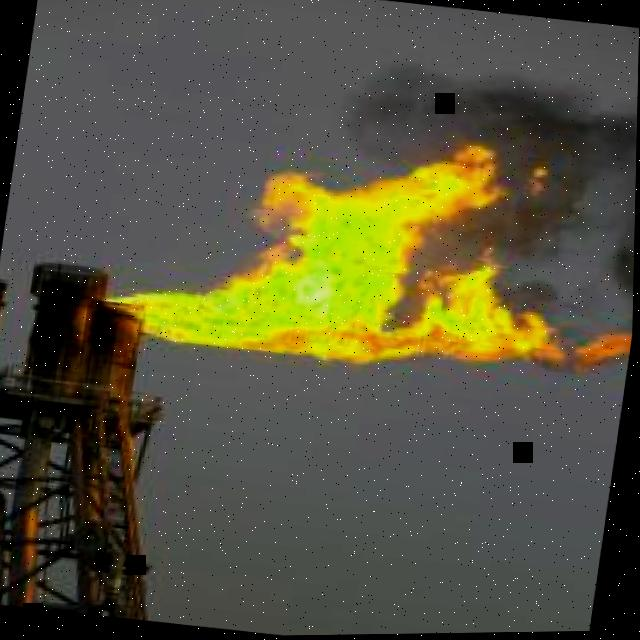fire: (106, 146, 633, 375)
smoke: (340, 63, 638, 331)
